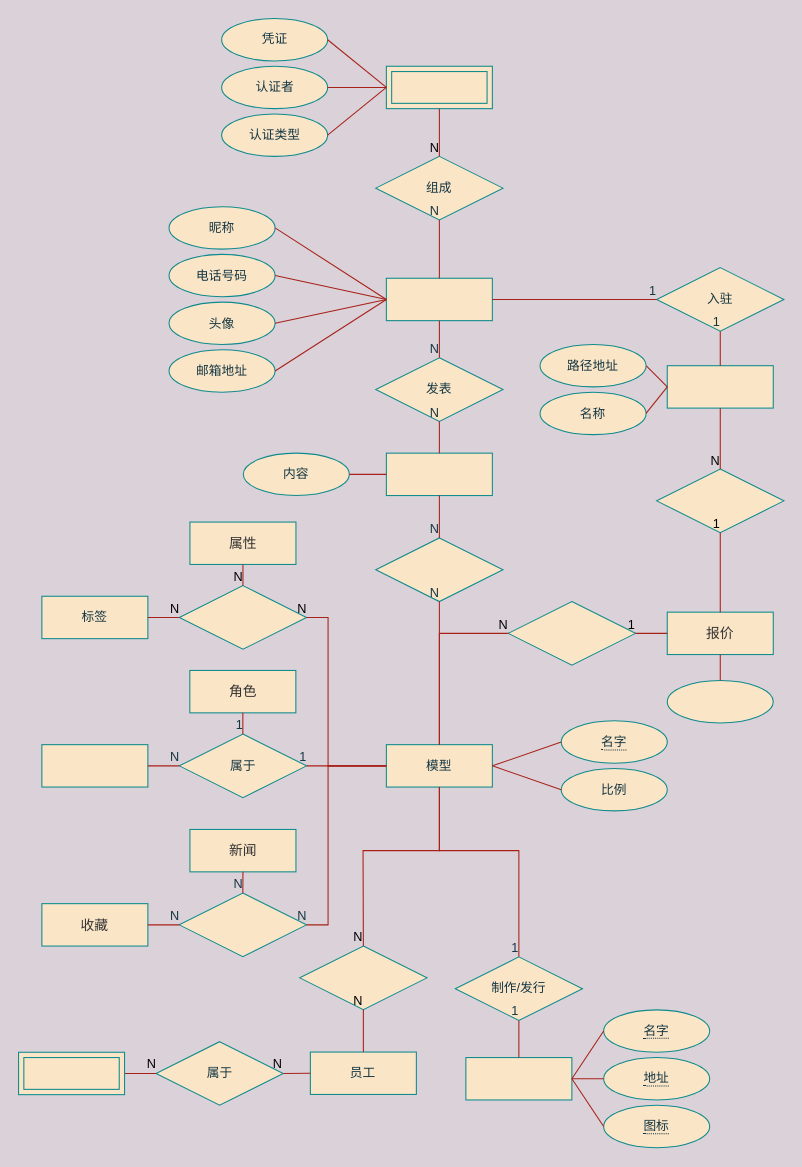
The diagram is 802 pixels wide and 1167 high, and some of its shapes have lost their labels. Each missing label, with the centre of its shape:
"价格" belongs at pixel 719 701.
"公司" belongs at pixel 518 1078.
"关注" belongs at pixel 242 924.
"制作" belongs at pixel 363 977.
"员工类型" belongs at pixel 71 1073.
"商店" belongs at pixel 719 386.
"对比" belongs at pixel 571 632.
"展示" belongs at pixel 439 569.
"拥有" belongs at pixel 242 617.
"标注" belongs at pixel 720 500.
"用户" belongs at pixel 438 299.
"用户身份" belongs at pixel 438 87.
"系列" belongs at pixel 94 765.
"评论" belongs at pixel 438 474.
